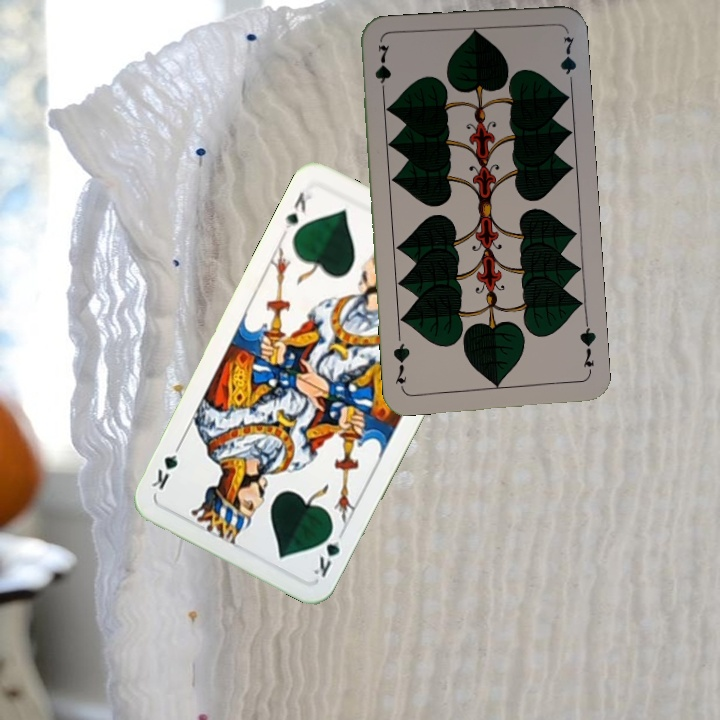G7: (371, 41, 394, 100), (576, 318, 598, 377)
GK: (309, 523, 347, 580), (278, 187, 315, 238)
